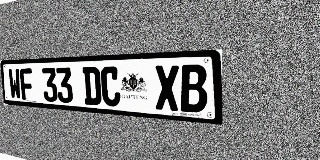3: (56, 67, 73, 103), (42, 68, 58, 102)
B: (180, 64, 207, 113)
C: (100, 66, 121, 107)
D: (82, 67, 102, 106)
F: (19, 68, 34, 101)
W: (8, 68, 22, 100)
X: (154, 65, 180, 111)
